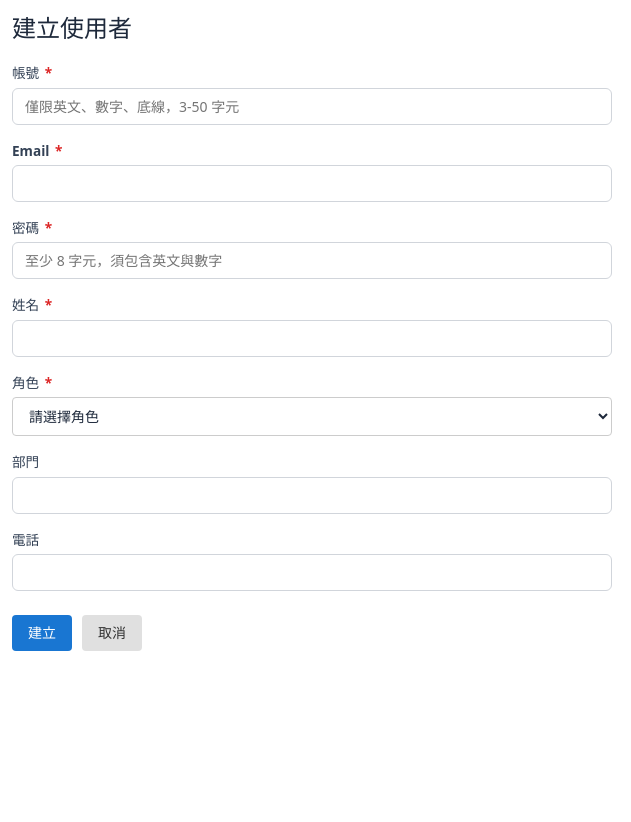
it: UserCreatePage › shows channels when sales role selected
This screenshot has width=631, height=822.
Select "Sales" in the dropdown labelled "角色 *". click: coordinates (312, 417)
box: [12,397,612,436]
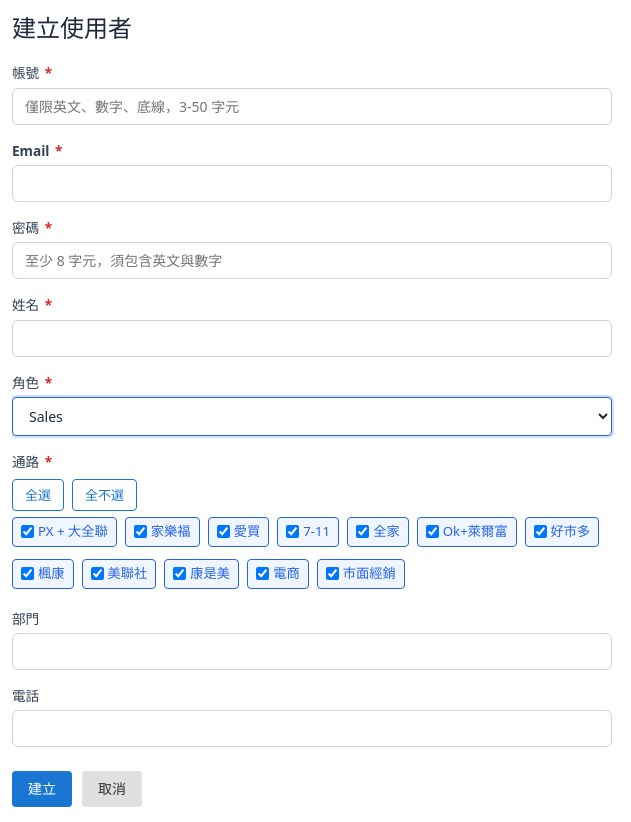
Expected: the text "PX + 大全聯" is shown, [12,517,117,547]
Expected: the text "家樂福" is shown, [125,517,200,547]
